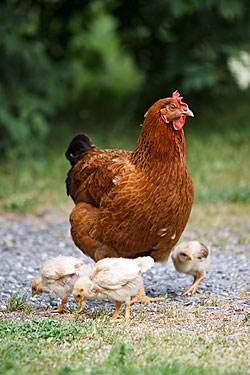chicken: (61, 78, 197, 256), (72, 258, 161, 324), (19, 249, 86, 320), (168, 234, 218, 298)
